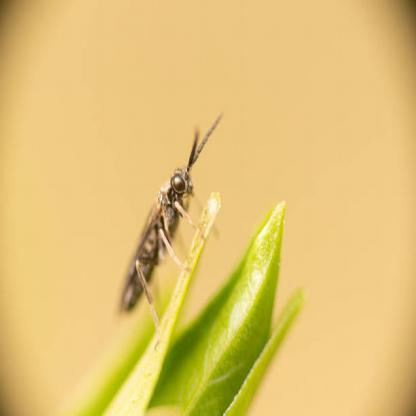sawfly: (114, 104, 224, 332)
